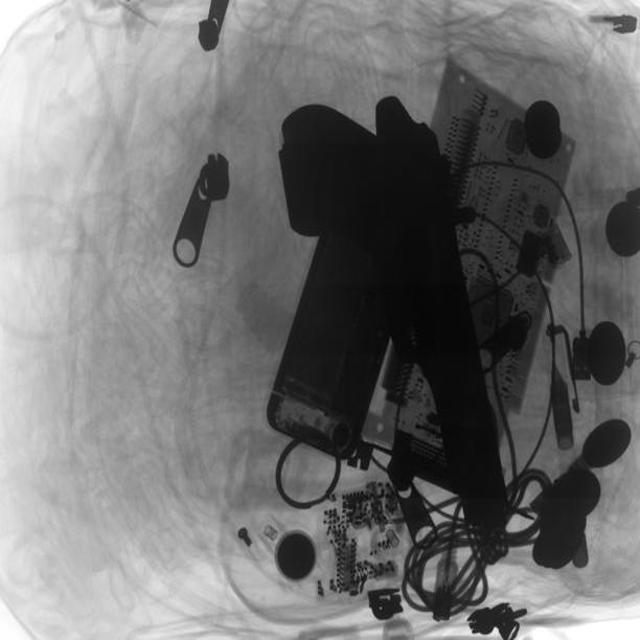gun: (273, 94, 521, 527)
